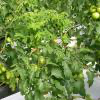Tomato leaf yellow virus: (63, 63, 73, 81), (54, 49, 64, 64), (9, 77, 17, 92), (13, 32, 23, 42), (21, 37, 29, 44), (5, 70, 11, 79), (25, 23, 33, 29), (38, 21, 45, 27), (38, 31, 42, 40), (52, 30, 57, 37), (33, 14, 38, 19), (60, 22, 65, 27), (34, 34, 38, 40), (51, 17, 55, 23), (64, 33, 69, 37), (33, 26, 36, 31), (64, 19, 68, 22)
